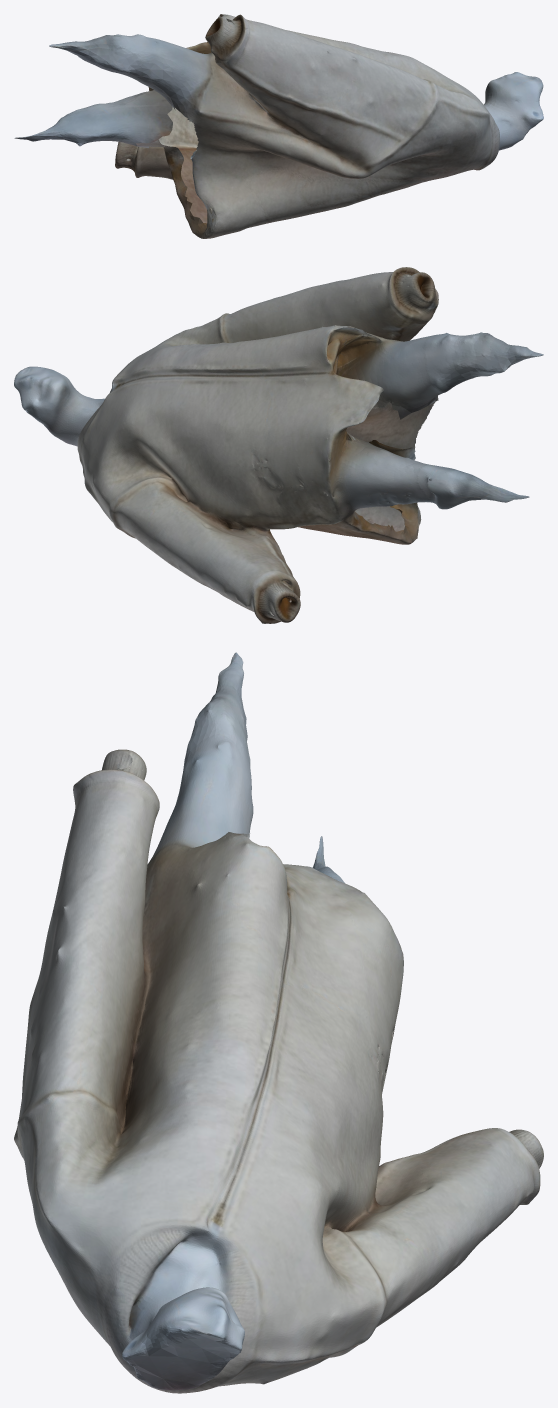
3 views of the same model, one above another, from view 1: azimuth 30°, elevation 25°; view 2: azimuth 150°, elevation 25°; view 3: azimuth 270°, elevation 25° (orthographic). The views are drawn at different scales.
Visible parts, largest first — view 1: Model; view 2: Model; view 3: Model.
Boxes of the visible parts, left/top/right/bottom form: Model: left=14, top=14, right=543, bottom=238; Model: left=14, top=267, right=543, bottom=623; Model: left=14, top=652, right=543, bottom=1393.
Bounding box in the file's own units: 9.46 × 4.89 × 4.49.
